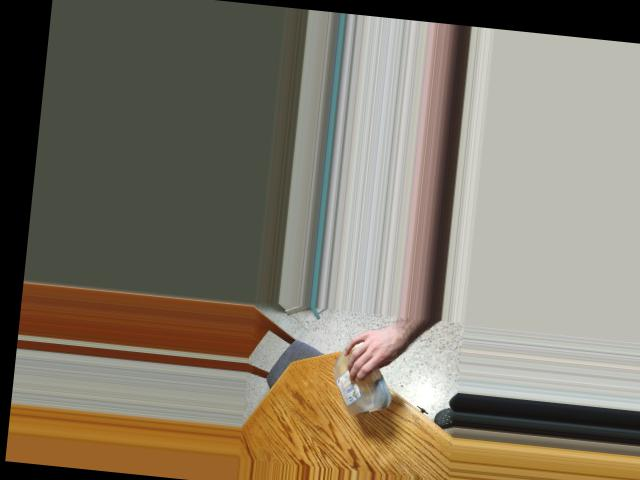cheese: (332, 349, 378, 410)
